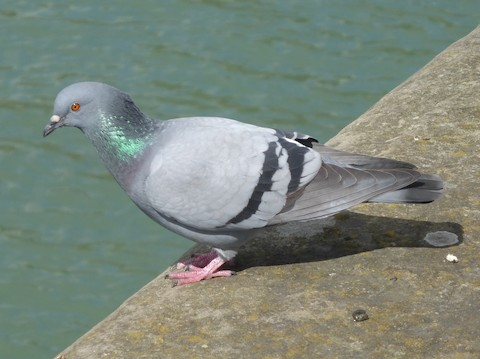pigeon: (39, 75, 457, 290)
